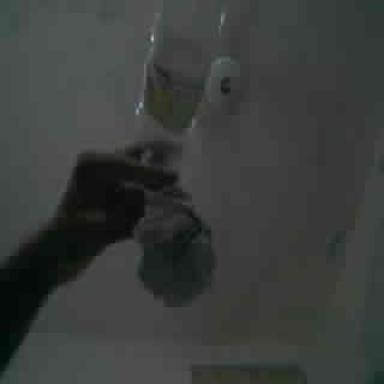bottle: (134, 189, 215, 306), (154, 136, 179, 163)
paper: (137, 0, 216, 146)
